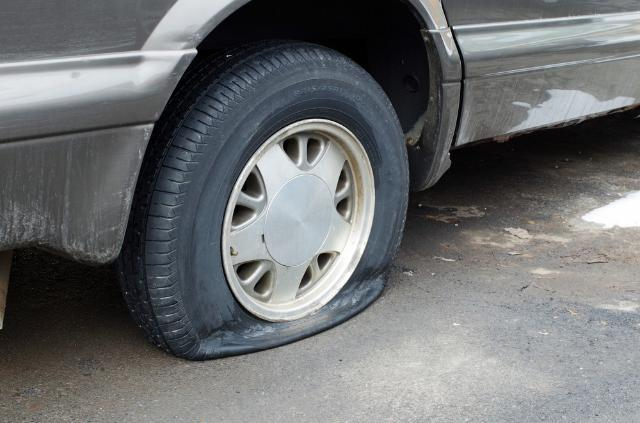tire flat: (117, 38, 411, 359)
